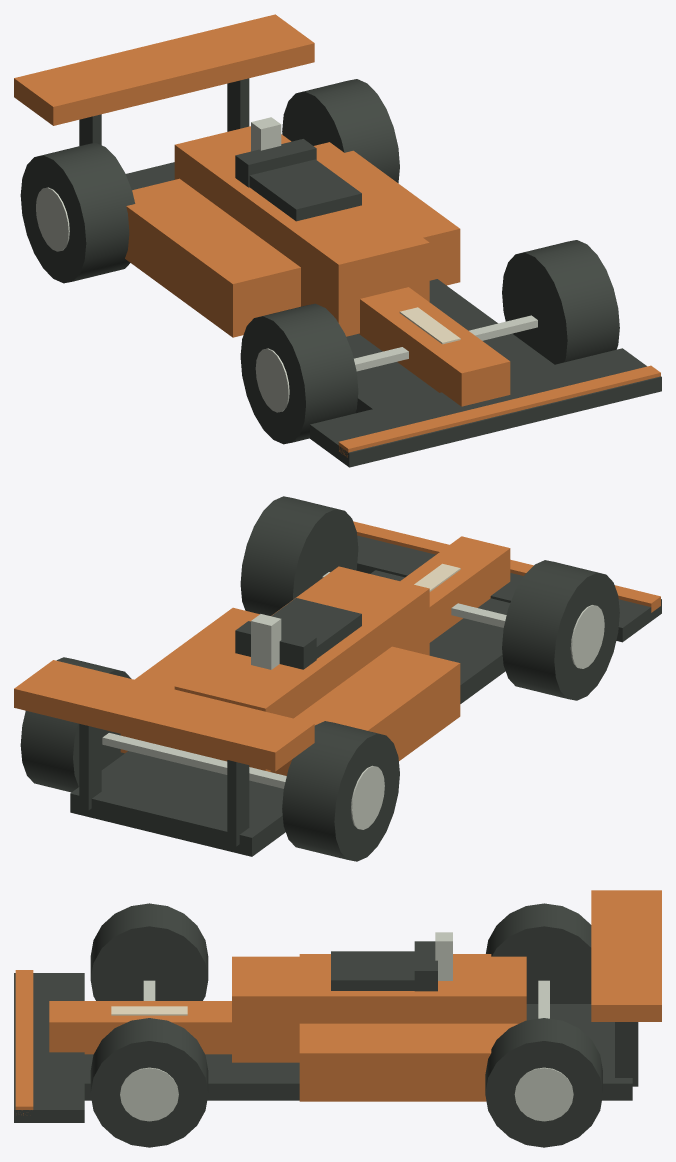
The model's file is placeholder-car.gltf.
3 renders of one model, top to bottom at view 1: azimuth 30°, elevation 25°; view 2: azimuth 150°, elevation 25°; view 3: azimuth 270°, elevation 25°, orthographic. The views are drawn at different scales.
Parts seen in each view (by area): view 1: Tire (×4), Monocoque, Left sidepod, Rear wing, Front wing, Nose, Floor, Right sidepod, Cockpit, Front wing signal, Hub (×2), Headrest (+4 smaller); view 2: Tire (×4), Floor, Rear wing, Monocoque, Left sidepod, Nose, Front wing, Rear wing strut (×2), Right sidepod, Hub (×2), Axle (×2), Cockpit (+4 smaller); view 3: Tire (×4), Monocoque, Right sidepod, Rear wing, Floor, Front wing, Nose, Hub (×2), Cockpit, Front wing signal, Rear wing strut, Headrest (+3 smaller).
Boxes of the visible parts, x1,y1,x2,y2 form: Tire (×4): [20, 79, 619, 444]; Monocoque: [174, 126, 429, 336]; Left sidepod: [125, 178, 300, 337]; Rear wing: [14, 14, 314, 125]; Front wing: [310, 348, 661, 467]; Nose: [359, 287, 510, 406]; Floor: [125, 162, 554, 413]; Right sidepod: [314, 142, 460, 285]; Cockpit: [249, 159, 361, 221]; Front wing signal: [338, 365, 660, 457]; Hub (×2): [36, 187, 289, 412]; Headrest: [235, 139, 316, 187]; Tire (×4): [20, 496, 619, 861]; Floor: [70, 570, 510, 856]; Rear wing: [14, 660, 314, 771]; Monocoque: [174, 566, 429, 771]; Left sidepod: [270, 646, 460, 775]; Nose: [400, 536, 510, 642]; Front wing: [356, 535, 661, 642]; Rear wing strut (×2): [79, 724, 249, 846]; Right sidepod: [120, 607, 259, 753]; Hub (×2): [351, 605, 604, 829]; Axle (×2): [102, 572, 506, 788]; Cockpit: [271, 598, 361, 658]; Tire (×4): [90, 903, 602, 1147]; Monocoque: [232, 956, 526, 1062]; Right sidepod: [299, 1023, 517, 1101]; Rear wing: [591, 890, 661, 1021]; Floor: [84, 1004, 632, 1100]; Front wing: [14, 973, 84, 1122]; Nose: [49, 1001, 231, 1054]; Hub (×2): [120, 1067, 573, 1121]; Cockpit: [331, 951, 414, 990]; Front wing signal: [15, 970, 33, 1115]; Rear wing strut: [615, 1022, 638, 1086]; Headrest: [414, 941, 437, 991].
Bounding box in the file's own units: 2.78 × 1.33 × 5.5.
